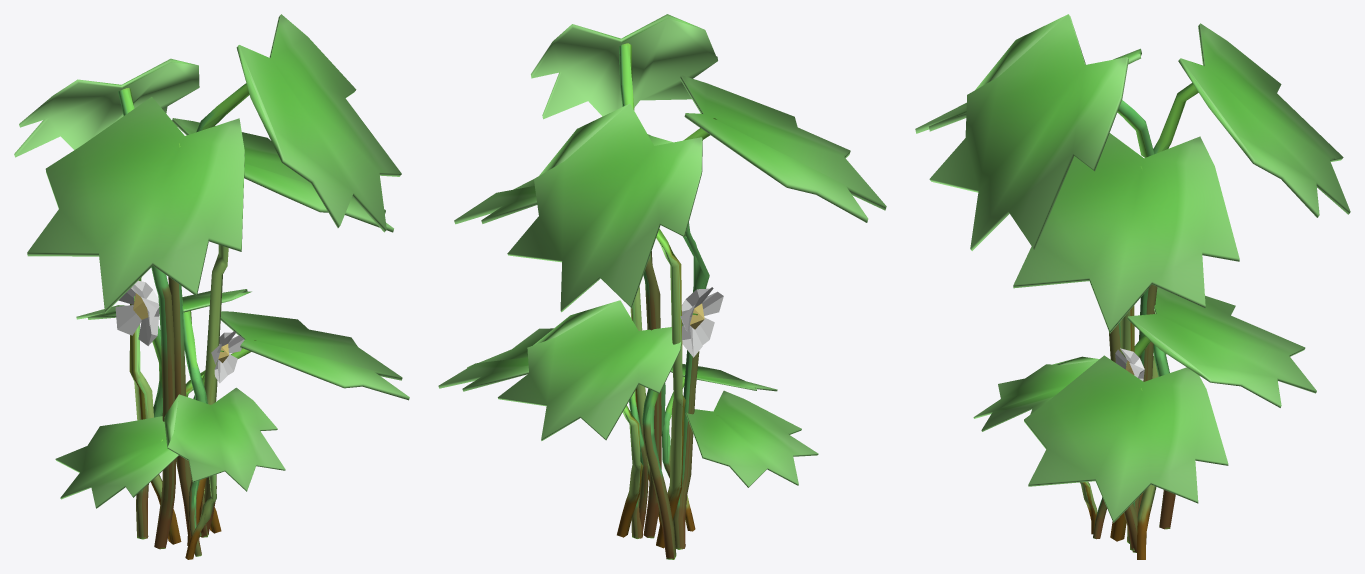
The model's file is strawberry-blooming.glb.
3 renders of one model, left to right at view 1: azimuth 30°, elevation 25°; view 2: azimuth 150°, elevation 25°; view 3: azimuth 270°, elevation 25°, orthographic. The views are drawn at different scales.
Parts seen in each view (by area): view 1: BézierCurve.004; view 2: BézierCurve.004; view 3: BézierCurve.004.
Part boxes in pixels (left/top/right/bottom): BézierCurve.004: left=14, top=14, right=409, bottom=559; BézierCurve.004: left=438, top=14, right=886, bottom=559; BézierCurve.004: left=915, top=14, right=1350, bottom=559.
Size of the model in its own units: 1.22 by 1.53 by 1.12.
6 materials, 4 textured.
